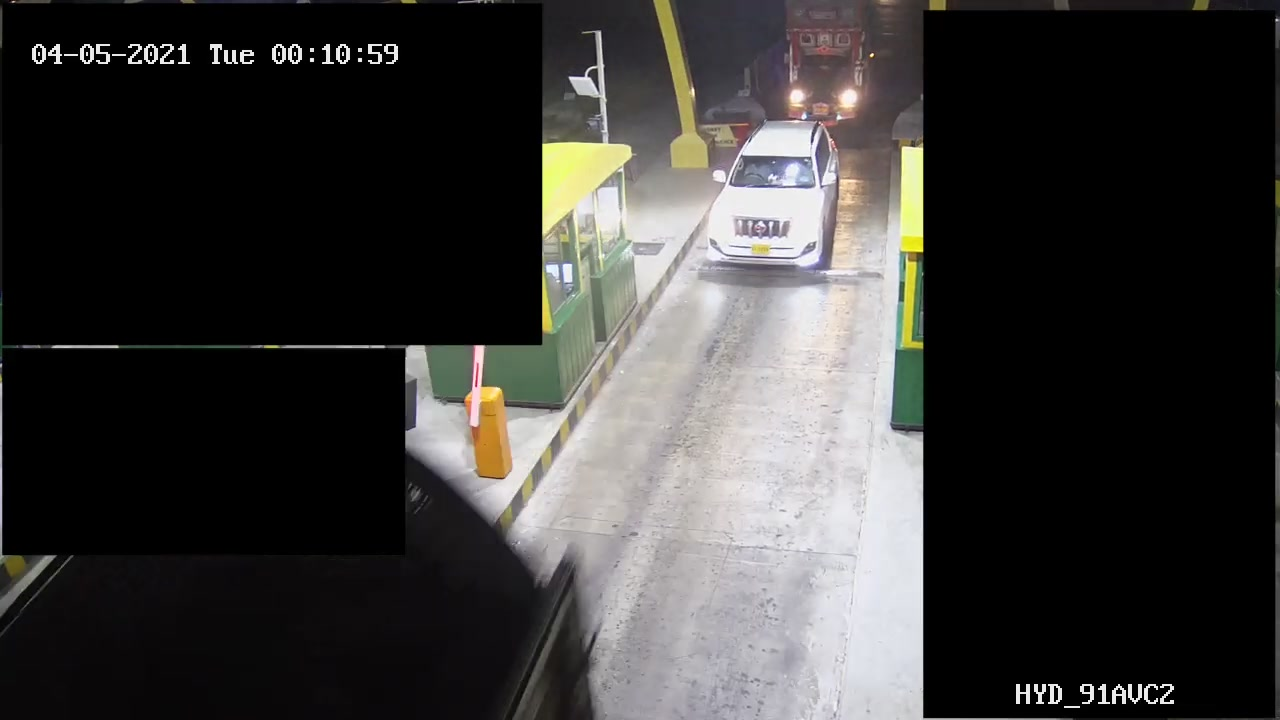F1: (687, 121, 851, 279)
